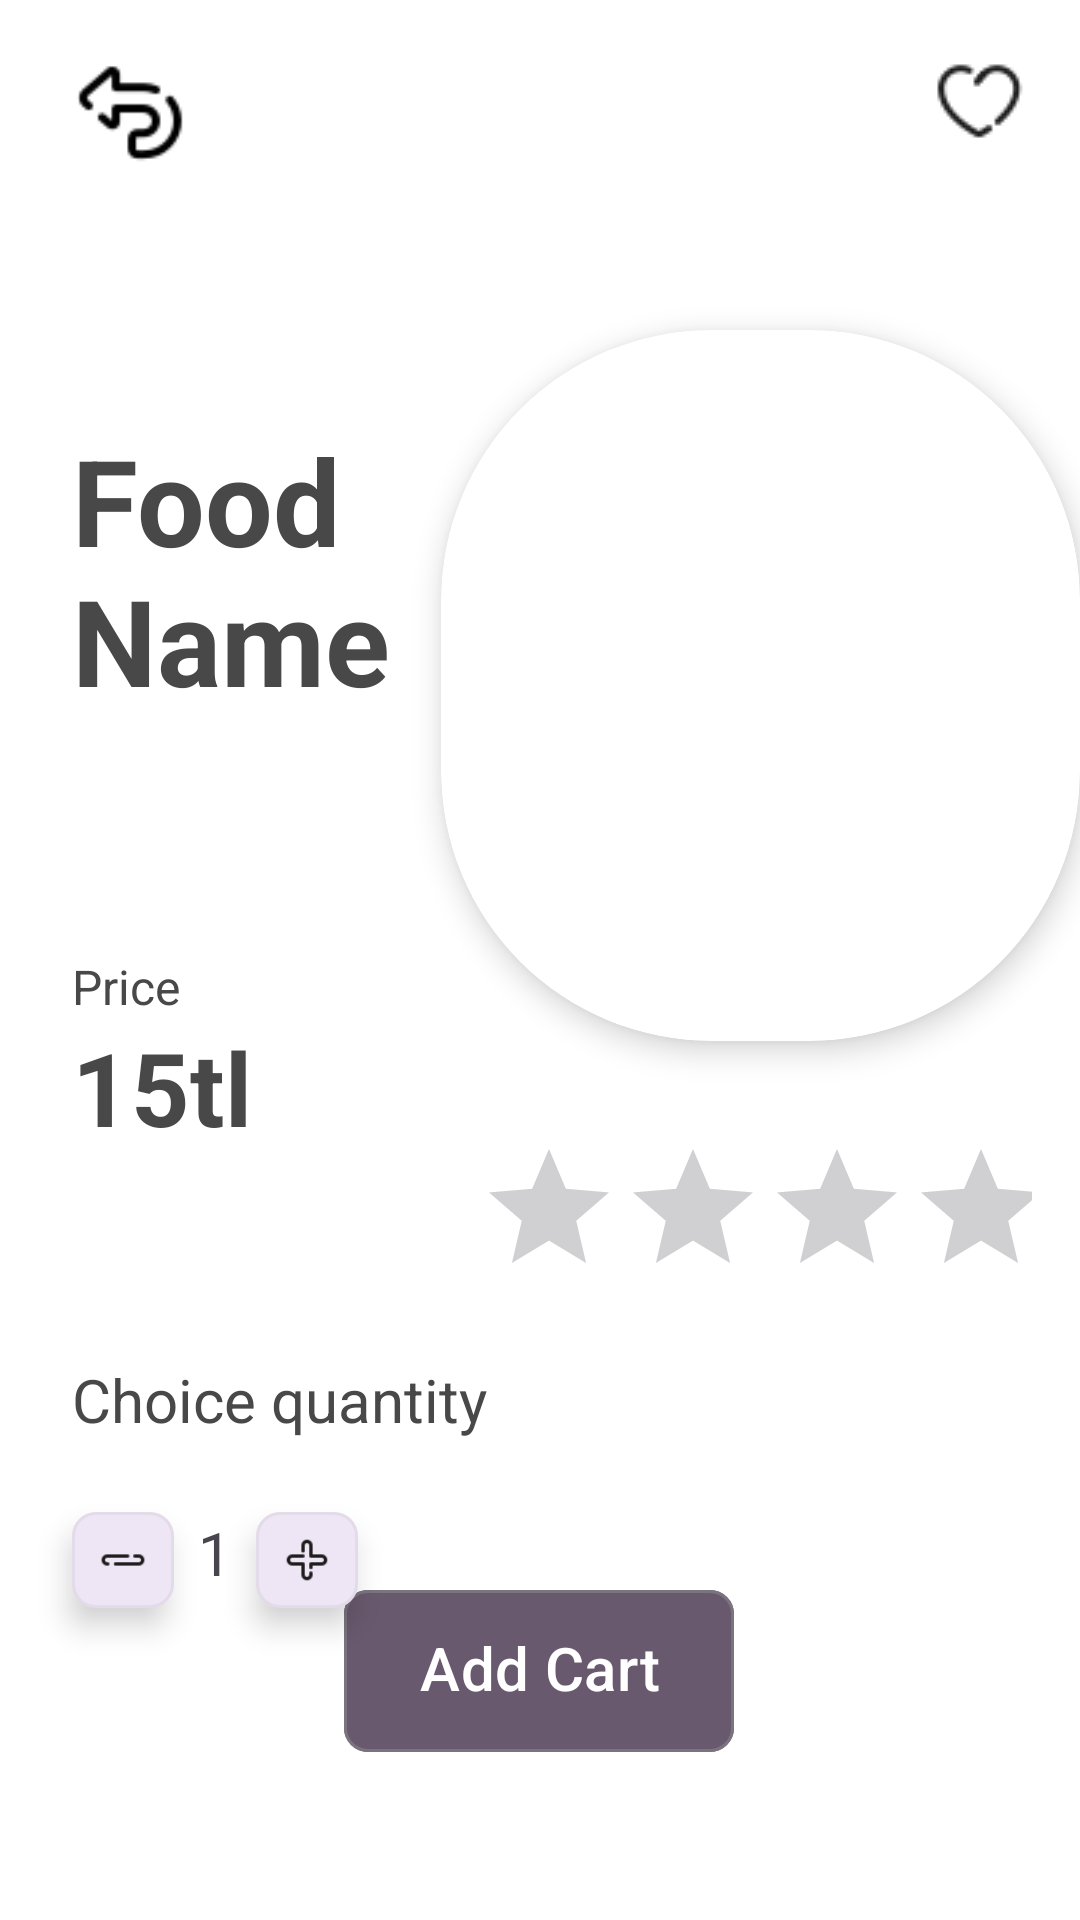

Where to tap for icons on this 1080 x 1920 app screen, as (x=x, y=y):
back: (x=130, y=113)
like: (x=979, y=101)
